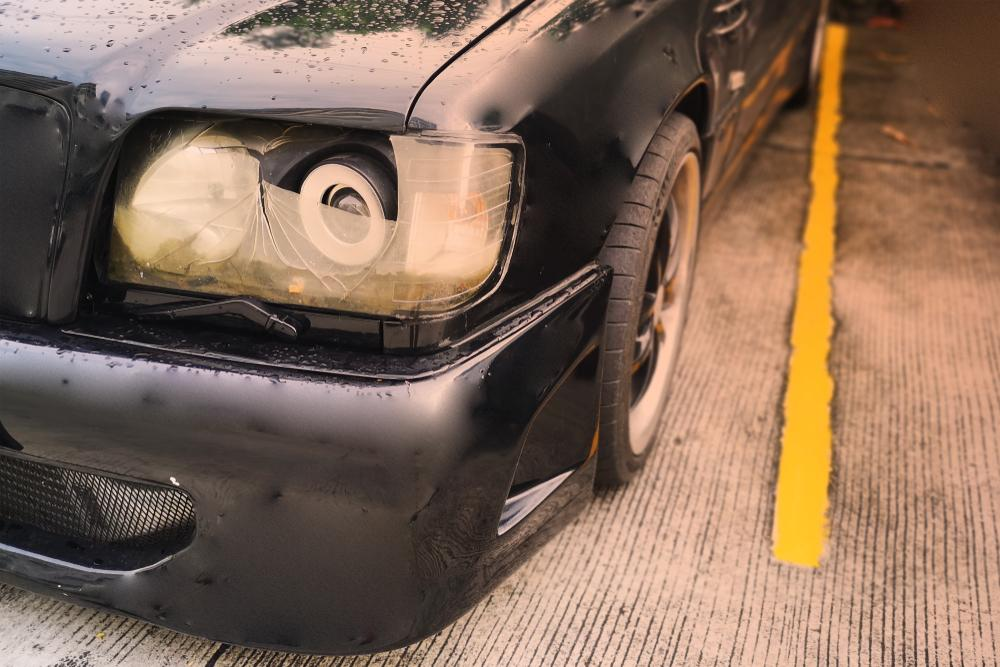lamp broken: (96, 109, 518, 317)
